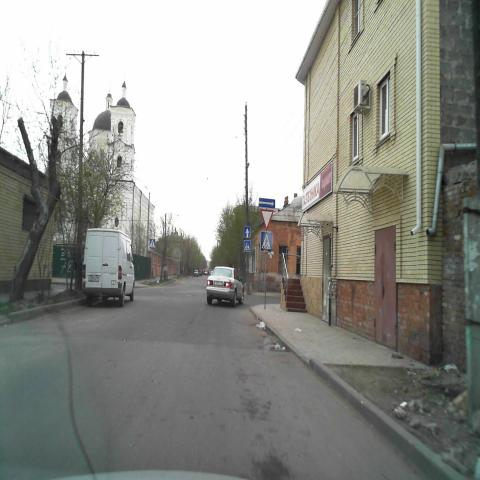5_7_1: (258, 198, 275, 208)
